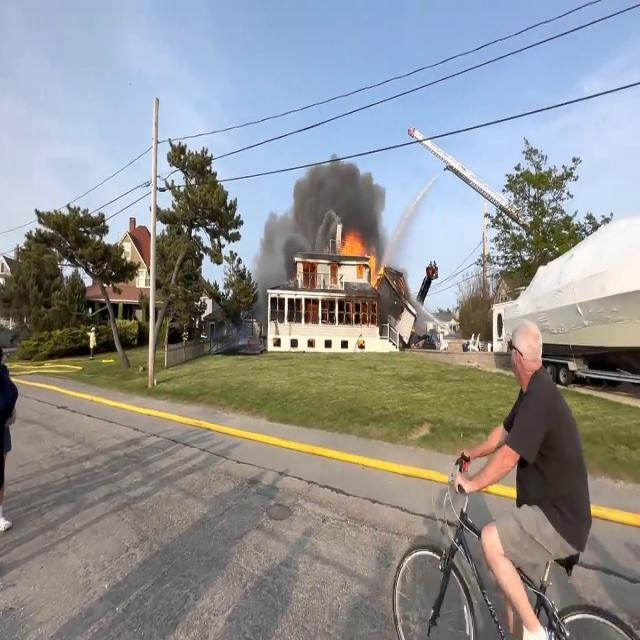Fire: (336, 228, 384, 279)
Smoke: (257, 144, 391, 260)
